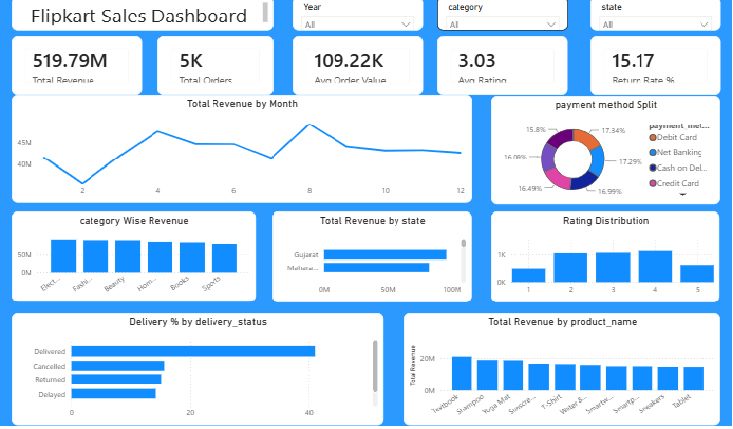

The page's visual inventory and layout, read from the dashboard file:
{"tool":"powerbi","page":{"name":"Page 1","canvas":[1280,720],"ordinal":0},"visuals":[{"type":"textbox","box":[82.9,0,420,55.7],"z":0},{"type":"slicer","fields":{"Values":["DateTable.Year"]},"box":[535.7,0,208.6,55.7],"z":1000},{"type":"slicer","fields":{"Values":["flipkart_cleaned.category"]},"box":[767.1,0,210,55.7],"z":2000},{"type":"slicer","fields":{"Values":["flipkart_cleaned.state"]},"box":[1012.9,0,208.6,55.7],"z":3000},{"type":"cardVisual","fields":{"Data":["flipkart_cleaned.Total Revenue"]},"box":[82.9,65.7,209.2,100],"z":4000},{"type":"cardVisual","fields":{"Data":["flipkart_cleaned.Total Orders"]},"box":[318.6,65.7,184.6,100],"z":5000},{"type":"cardVisual","fields":{"Data":["flipkart_cleaned.Avg Order Value"]},"box":[535.7,65.7,209.2,100],"z":6000},{"type":"cardVisual","fields":{"Data":["flipkart_cleaned.Avg Rating"]},"box":[767.1,65.7,209.2,100],"z":7000},{"type":"cardVisual","fields":{"Data":["flipkart_cleaned.Return Rate %"]},"box":[1012.9,65.7,209.2,100],"z":8000},{"type":"lineChart","fields":{"Y":["flipkart_cleaned.Total Revenue"],"Category":["DateTable.Month"]},"box":[82.9,165.7,740,181.4],"z":9000},{"type":"donutChart","title":" payment method Split","fields":{"Category":["flipkart_cleaned.payment_method"],"Y":["flipkart_cleaned.Total Revenue"]},"box":[853.8,166.2,367.7,181.5],"z":10000},{"type":"clusteredColumnChart","title":"category Wise Revenue","fields":{"Y":["flipkart_cleaned.Total Revenue"],"Category":["flipkart_cleaned.category"]},"box":[83.1,360,392.3,152.3],"z":11000},{"type":"clusteredBarChart","fields":{"Category":["flipkart_cleaned.state"],"Y":["flipkart_cleaned.Total Revenue"]},"box":[501.5,360,321.1,152.6],"z":12000},{"type":"lineClusteredColumnComboChart","title":"Rating Distribution","fields":{"Y":["CountNonNull(flipkart_cleaned.order_id)"],"Category":["flipkart_cleaned.rating _round"]},"box":[853.8,360,367,153],"z":13000},{"type":"clusteredBarChart","fields":{"Category":["flipkart_cleaned.delivery_status"],"Y":["flipkart_cleaned.Delivery %"]},"box":[83.1,530.8,596.9,189.2],"z":14000},{"type":"columnChart","fields":{"Y":["flipkart_cleaned.Total Revenue"],"Category":["flipkart_cleaned.product_name"]},"box":[713.8,530.8,507.7,189.2],"z":15000}]}

Visuals, with their boxes on the page's 1280x720 design canvas (x1, y1, x2, y2). These are canvas units, not pixel positions in the 733x429 screenshot, which may show the page scaled, cropped or inside an application window:
textbox: [83,0,503,56]
slicer - DateTable.Year: [536,0,744,56]
slicer - flipkart_cleaned.category: [767,0,977,56]
slicer - flipkart_cleaned.state: [1013,0,1222,56]
cardVisual - flipkart_cleaned.Total Revenue: [83,66,292,166]
cardVisual - flipkart_cleaned.Total Orders: [319,66,503,166]
cardVisual - flipkart_cleaned.Avg Order Value: [536,66,745,166]
cardVisual - flipkart_cleaned.Avg Rating: [767,66,976,166]
cardVisual - flipkart_cleaned.Return Rate %: [1013,66,1222,166]
lineChart - flipkart_cleaned.Total Revenue x DateTable.Month: [83,166,823,347]
" payment method Split" donutChart: [854,166,1222,348]
"category Wise Revenue" clusteredColumnChart: [83,360,475,512]
clusteredBarChart - flipkart_cleaned.state x flipkart_cleaned.Total Revenue: [502,360,823,513]
"Rating Distribution" lineClusteredColumnComboChart: [854,360,1221,513]
clusteredBarChart - flipkart_cleaned.delivery_status x flipkart_cleaned.Delivery %: [83,531,680,720]
columnChart - flipkart_cleaned.Total Revenue x flipkart_cleaned.product_name: [714,531,1222,720]
